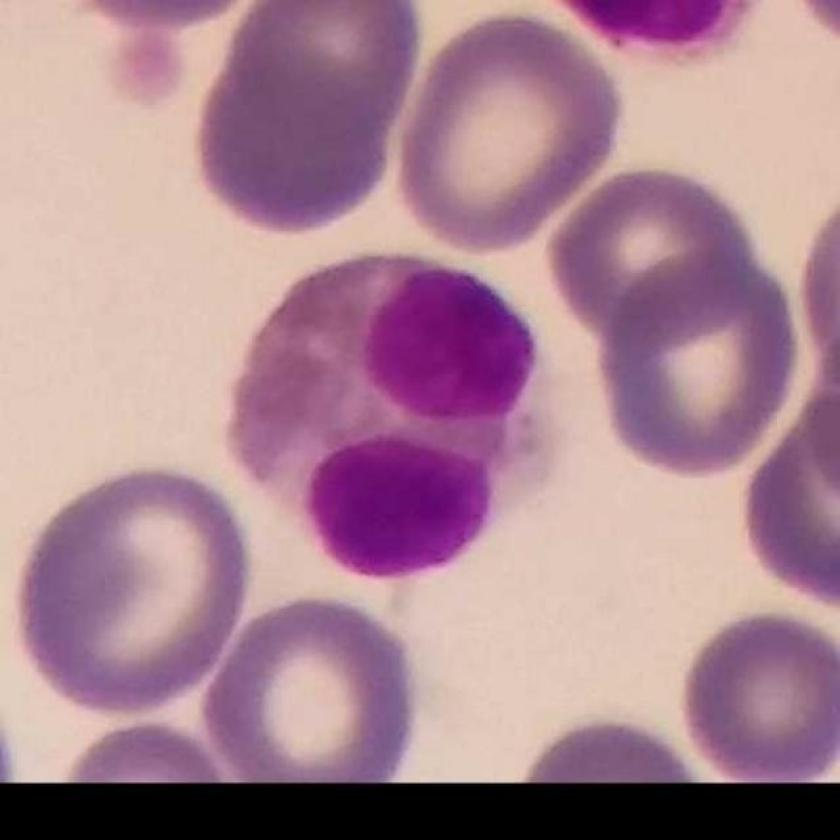eosinophil: (225, 249, 568, 584)
